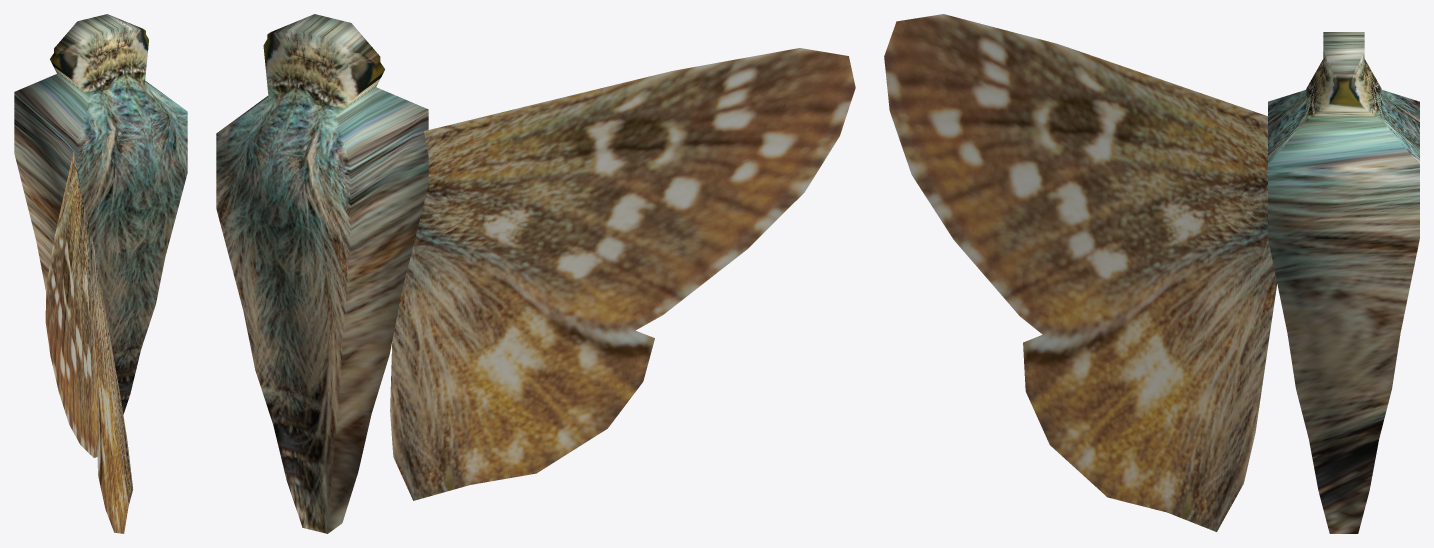
The model's file is mothfast.gltf.
The picture shows the model from 3 angles, left to right: view 1: azimuth 30°, elevation 25°; view 2: azimuth 150°, elevation 25°; view 3: azimuth 270°, elevation 25°; orthographic projection. The views are drawn at different scales.
Visible parts, largest first — view 1: Plane; view 2: Plane; view 3: Plane.
Part boxes in pixels (x1=…): Plane: x1=14, y1=14, x2=187, y2=533; Plane: x1=216, y1=14, x2=855, y2=533; Plane: x1=884, y1=14, x2=1419, y2=533.
Size of the model in its own units: 1.35 by 1.82 by 1.75.
Materials: 1 (1 with a texture image).
